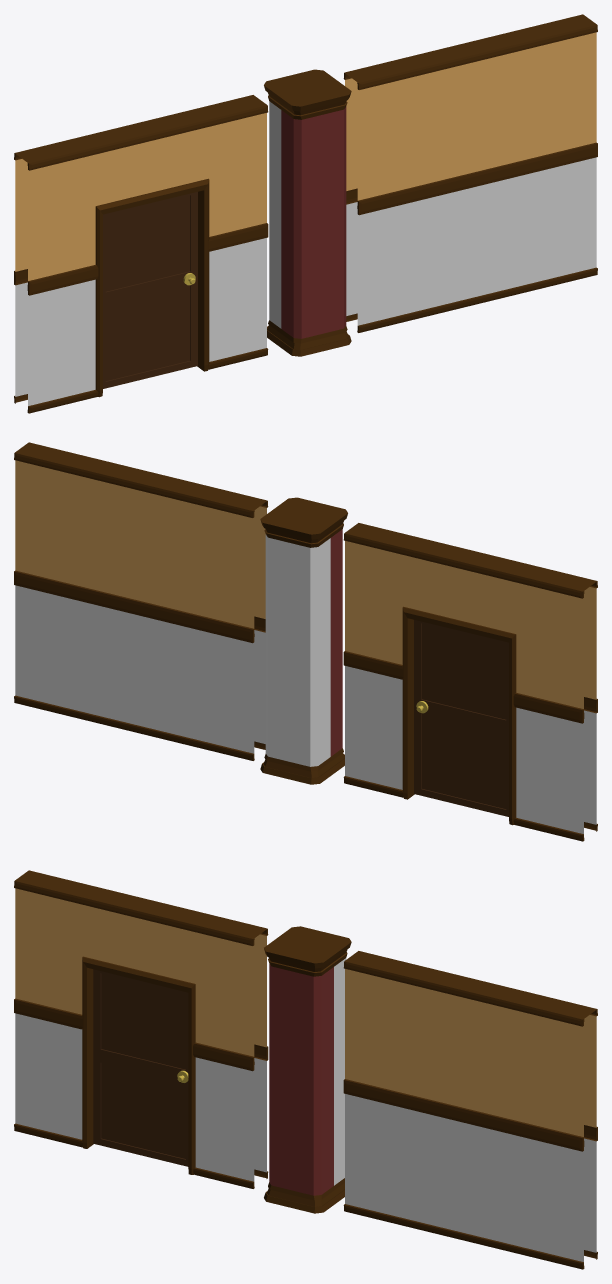
The model's file is Hotel modular asset set Placeholder.fbx.
3 renders of one model, top to bottom at view 1: azimuth 30°, elevation 25°; view 2: azimuth 150°, elevation 25°; view 3: azimuth 330°, elevation 25°, orthographic.
Visible parts, largest first — view 1: Wall, Wall with door frame, Pillar, Door V2; view 2: Wall, Wall with door frame, Pillar, Door V2; view 3: Wall, Wall with door frame, Pillar, Door V2.
Boxes of the visible parts, box(x1,y1,x2,y2) form: Wall: box(343, 14, 597, 332); Wall with door frame: box(14, 95, 268, 413); Pillar: box(264, 69, 351, 356); Door V2: box(103, 192, 197, 388); Wall: box(14, 442, 268, 760); Wall with door frame: box(343, 523, 597, 841); Pillar: box(260, 497, 347, 784); Door V2: box(414, 620, 508, 816); Wall: box(343, 951, 597, 1269); Wall with door frame: box(14, 870, 268, 1188); Pillar: box(264, 926, 351, 1213); Door V2: box(93, 969, 188, 1166).
Size of the model in its own units: 1475 by 622 by 155.
